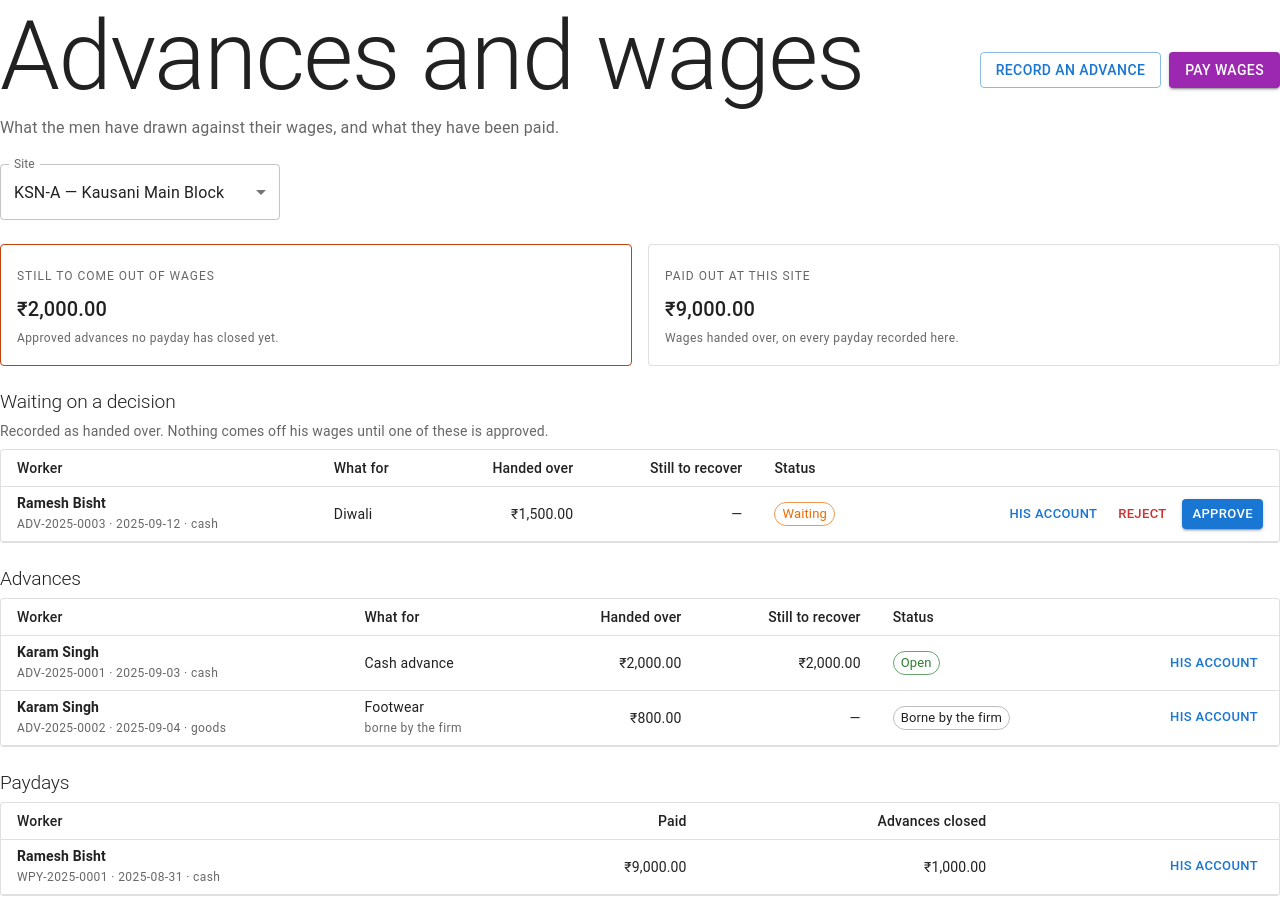
Test case: WorkerAdvancesPage › shows the refusal when the office types past what he is owed
The image size is (1280, 900).
Expected: the heading "Waiting on a decision" is shown, [0,390,176,413]
Click the button "Pay wages" at (1225, 70), box [1169,52,1279,88]
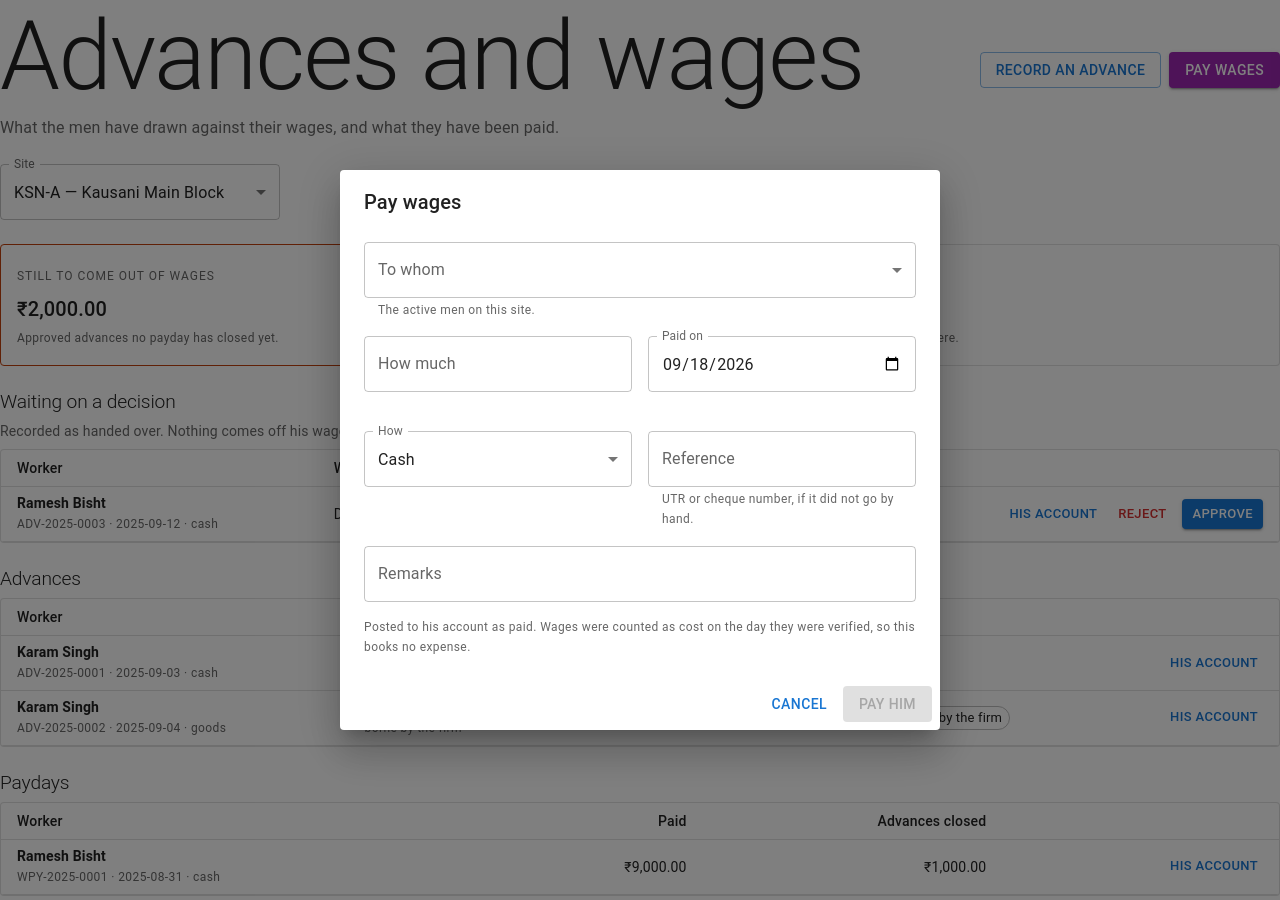
Click the dropdown named "To whom" at (640, 270), box [364,242,916,298]
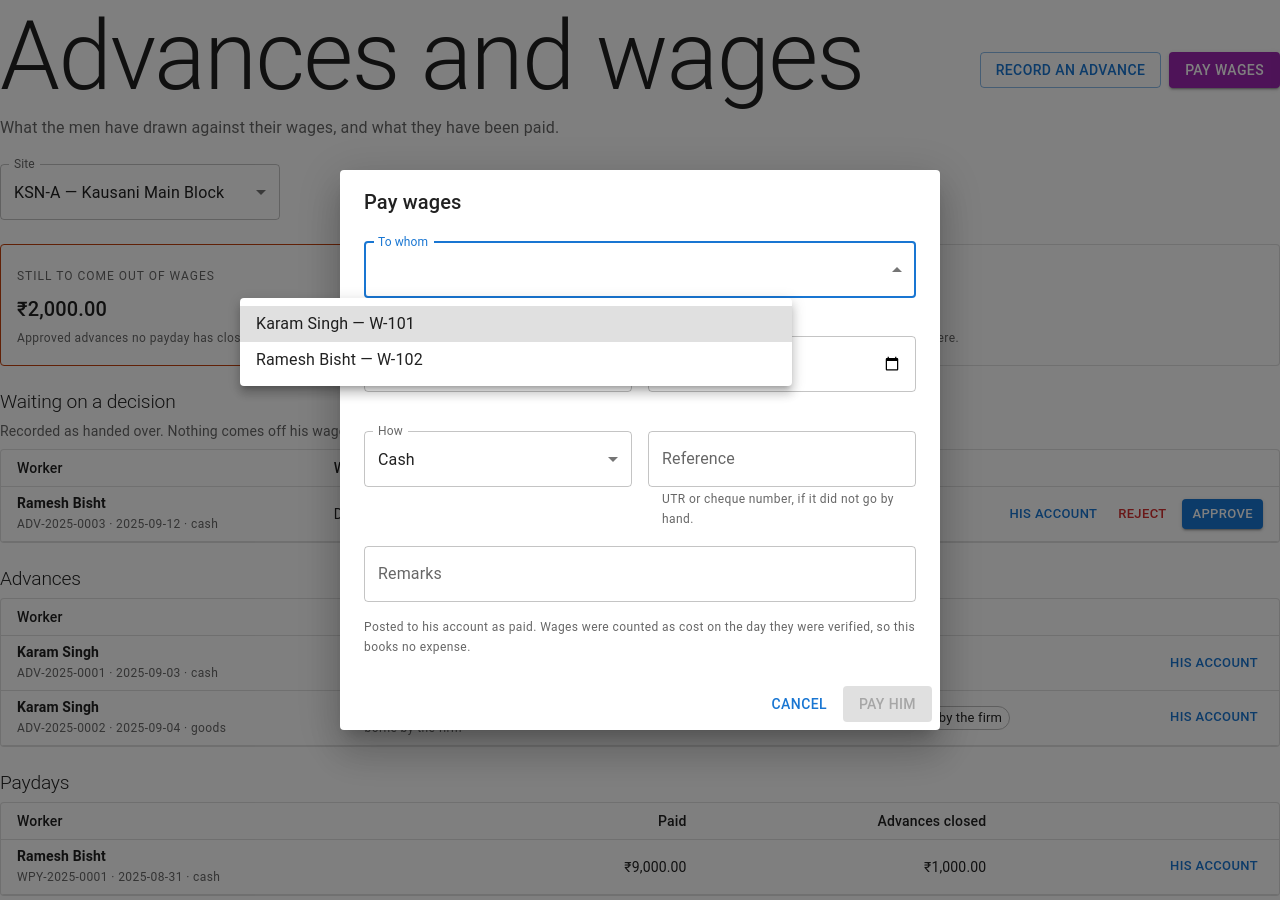
Click the option "Karam Singh — W-101" at (302, 324), box [240,306,792,342]
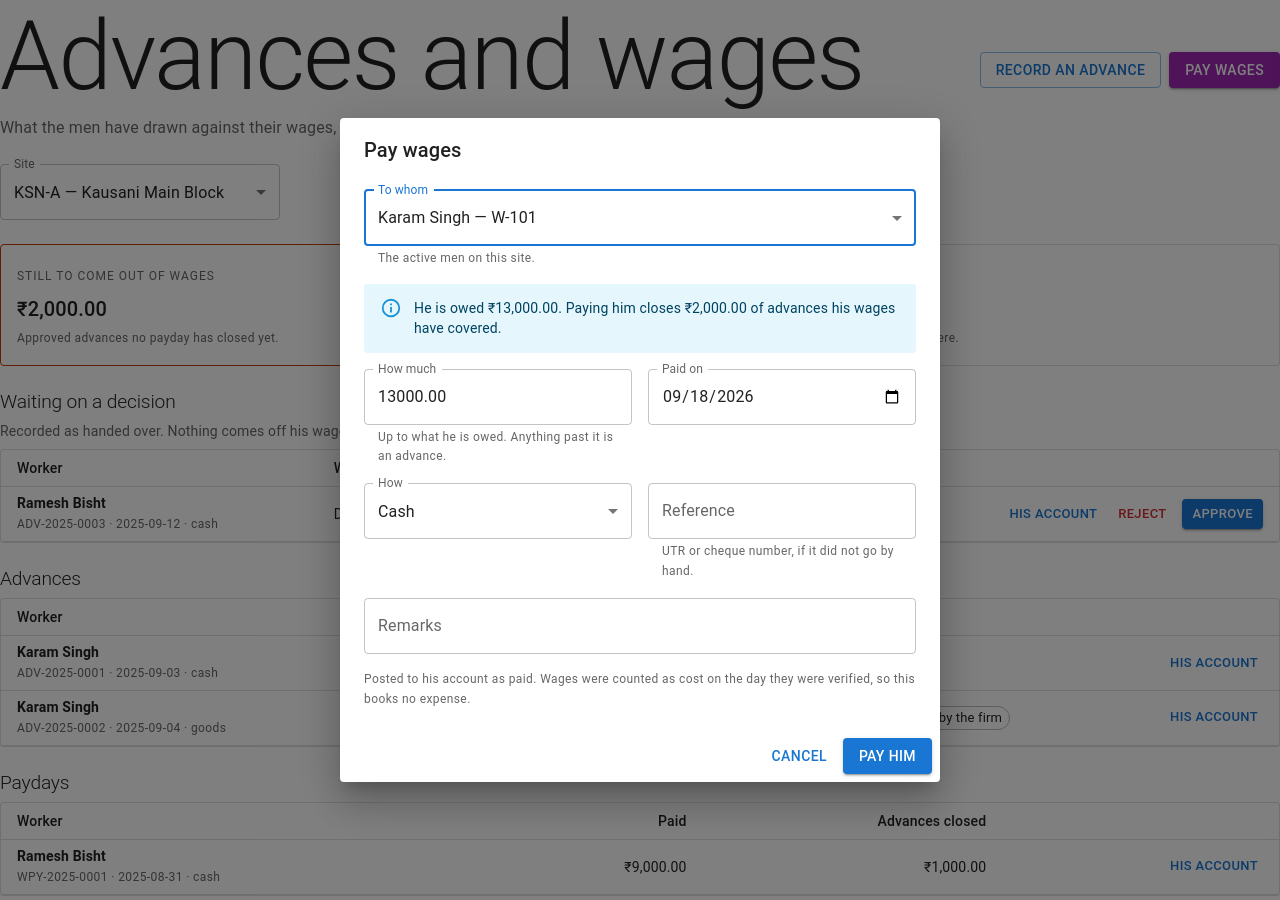
Expected: the text "He is owed ₹13,000.00" is shown, [414,290,900,346]
Replace the text in the number field labelled "How much" with "14000" at (498, 396), box [364,368,632,424]
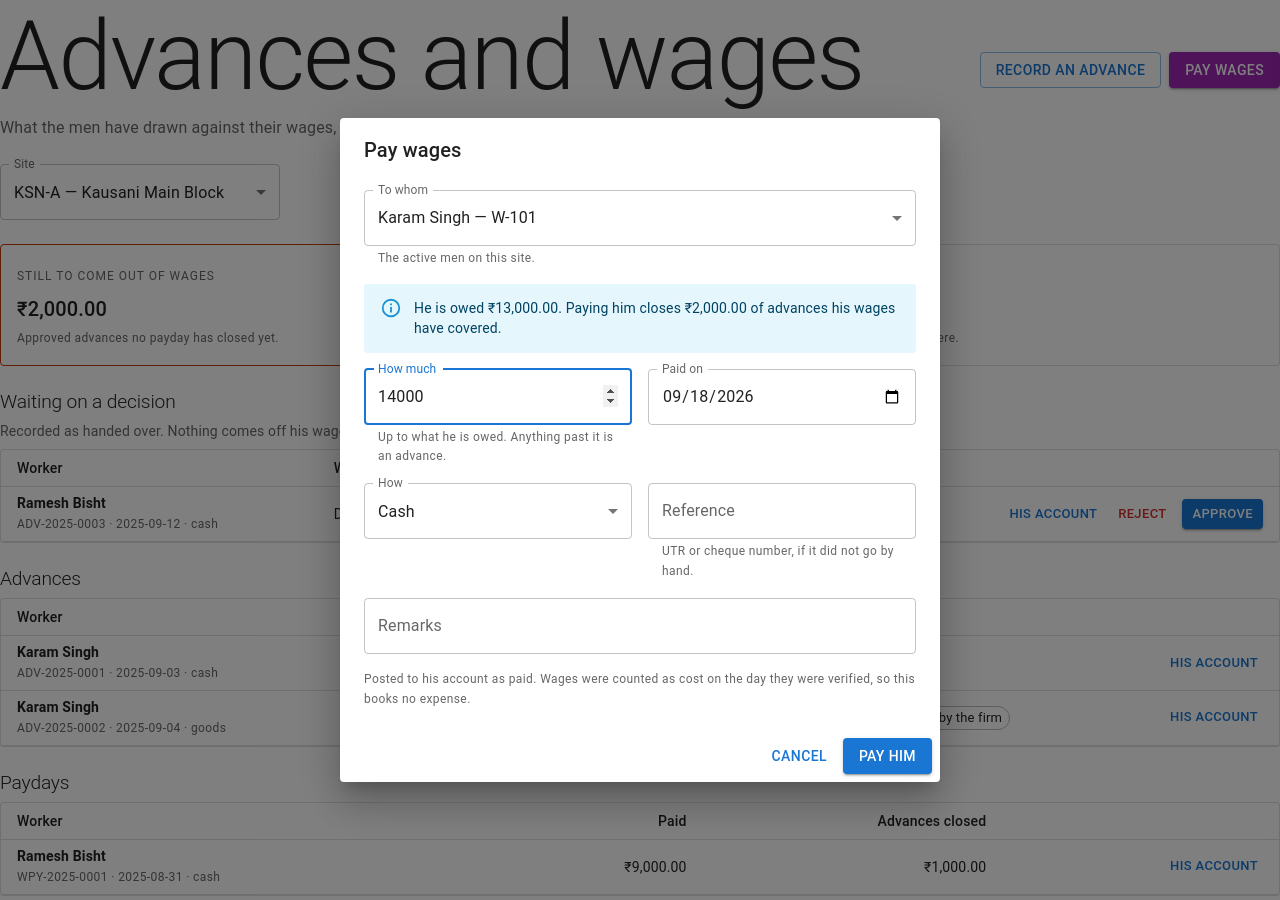
Click the button "Pay him" at (888, 756), box [843,738,932,774]
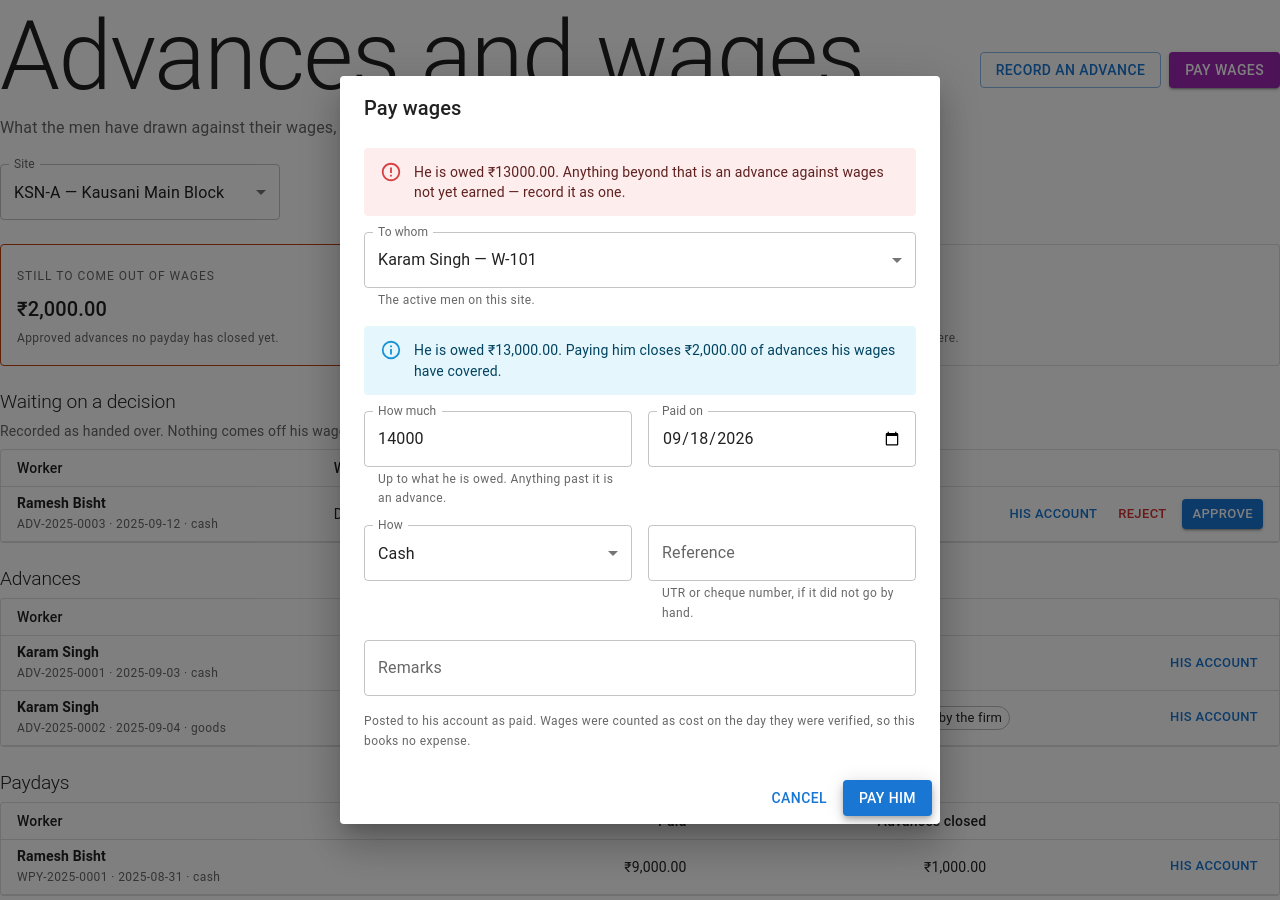
Expected: the text "Anything beyond that is an advance" is shown, [414,164,884,200]
